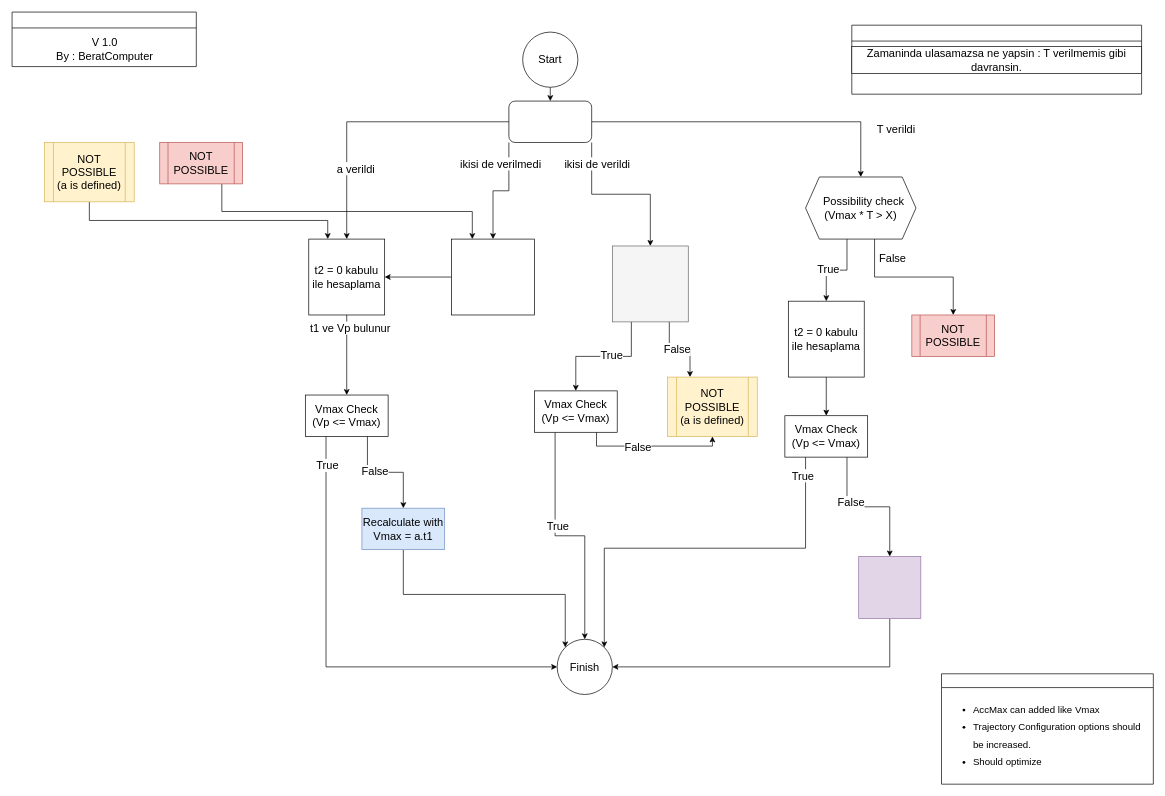
Some shapes in this 1165 by 796 pixel diagram are drawn without their labels. The shapes that lost their labels are listed below. From the top down, each one's box as (x1, y1, x2, y2) in pixels, then its label:
(11, 11, 196, 67): CreateTrajectory
(851, 24, 1142, 94): Trajectory Configs
(508, 100, 592, 142): a, T hangileri verildi
(451, 238, 534, 315): belirli bir a verilsin (a = Vmax / ?) (? = 2)
(612, 245, 688, 322): Diskriminant
(858, 556, 921, 619): a ve t leri bulma algoritmasi
(941, 673, 1153, 784): Notes
